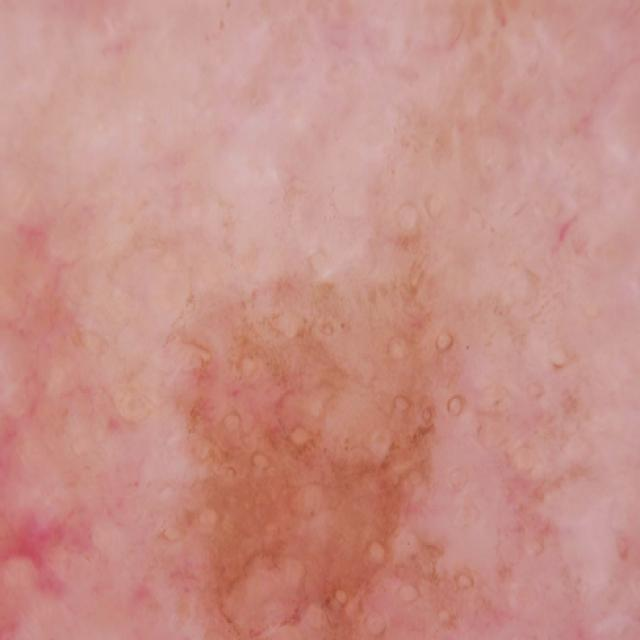Melanoma: (140, 182, 521, 640)
